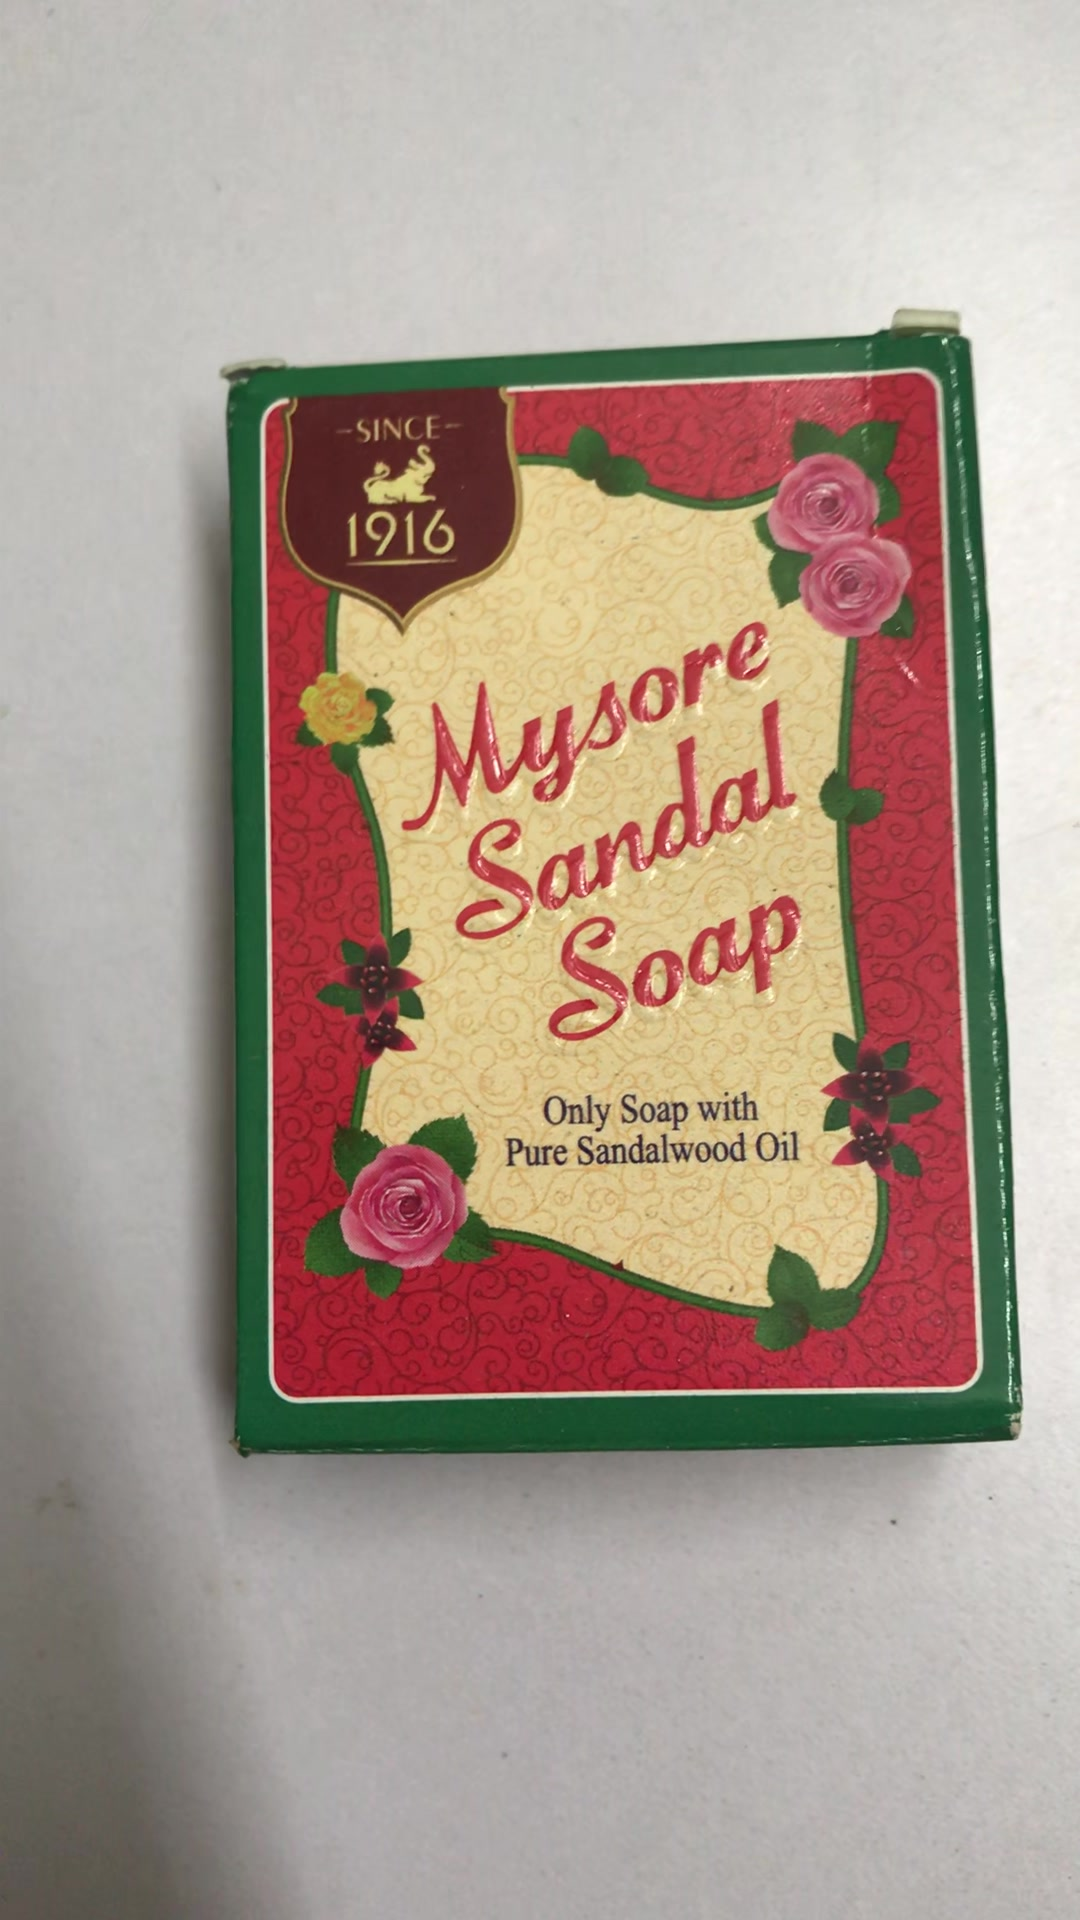mysore sandal soap: (220, 319, 1026, 1451)
